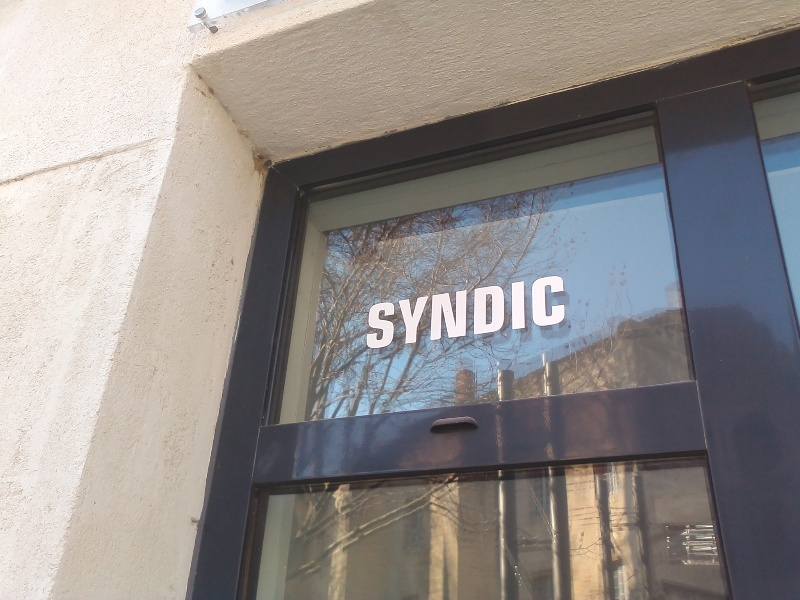text: (369, 274, 384, 351), (385, 274, 400, 351), (401, 274, 416, 351), (417, 274, 432, 351), (433, 274, 448, 351), (449, 274, 464, 351), (465, 274, 480, 351), (481, 274, 496, 351), (497, 274, 512, 351), (513, 274, 528, 351), (529, 274, 544, 351), (545, 274, 560, 351), (561, 274, 574, 351), (367, 274, 368, 351)
